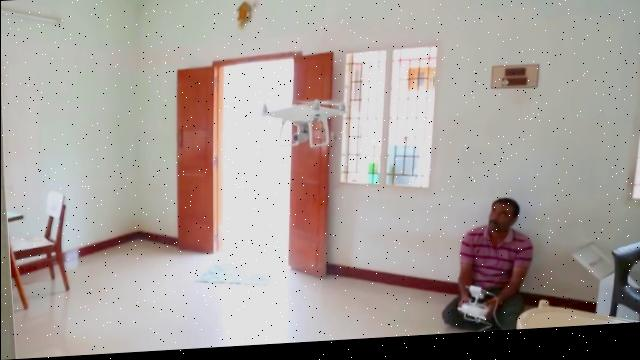drone: (249, 81, 365, 162)
